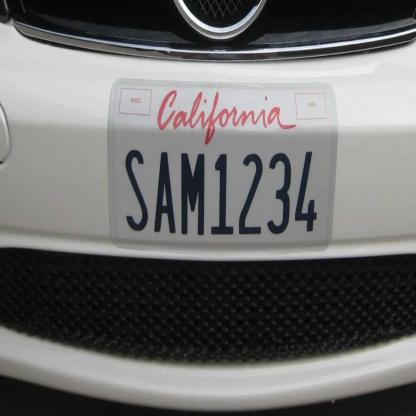Plates: (103, 70, 338, 256)
